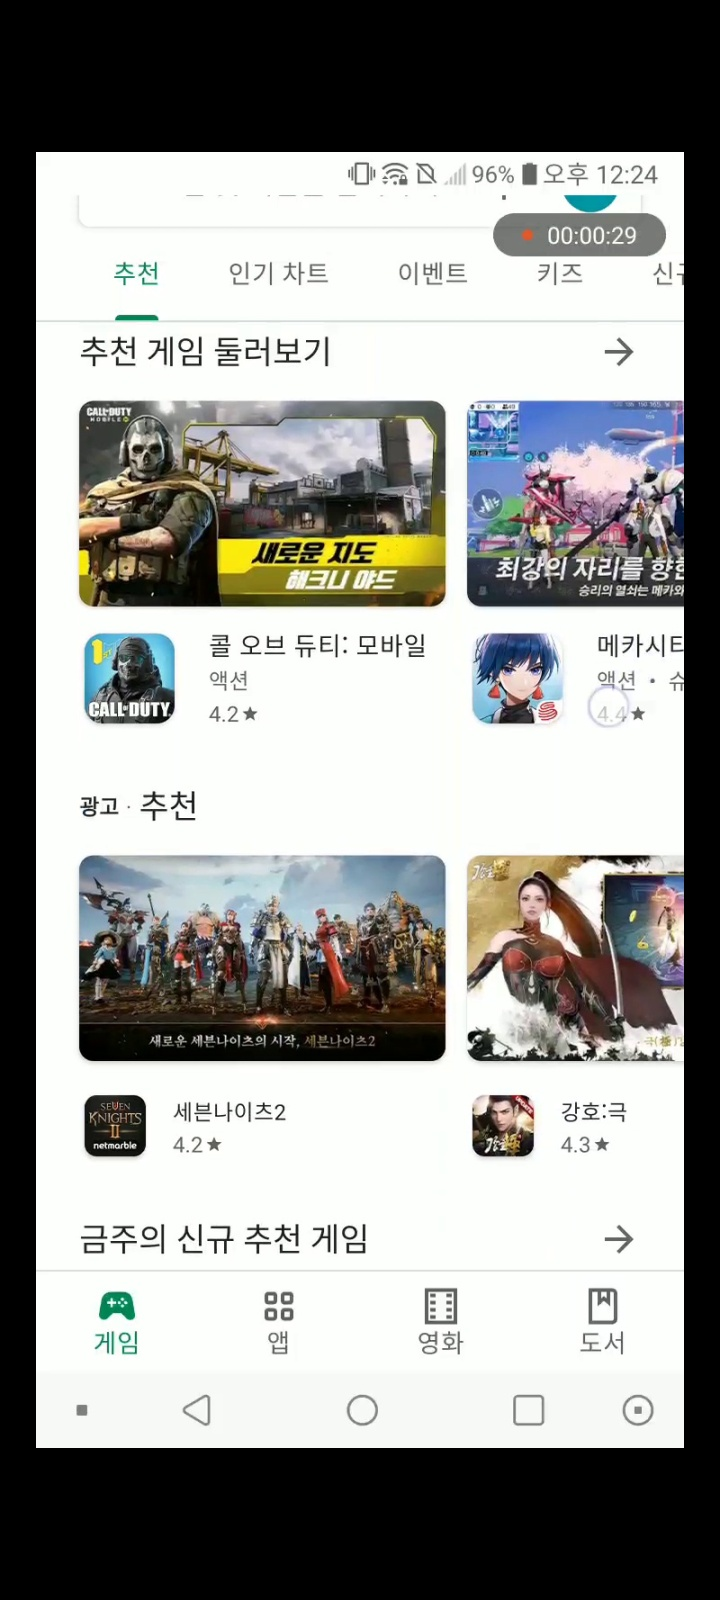Cursor: (588, 685, 633, 730)
